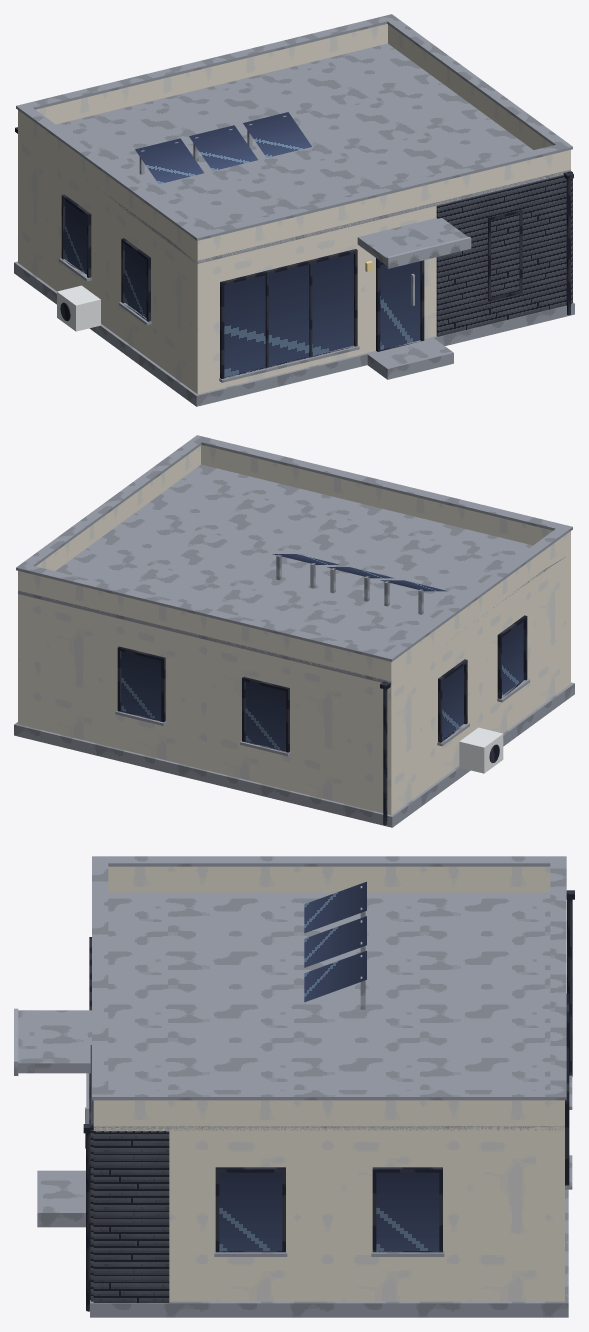
Rendered from modern_house_3.glb.
The picture shows the model from 3 angles, top to bottom: view 1: azimuth 30°, elevation 25°; view 2: azimuth 150°, elevation 25°; view 3: azimuth 270°, elevation 25°; orthographic projection. The views are drawn at different scales.
Parts seen in each view (by area): view 1: modern_house_4; view 2: modern_house_4; view 3: modern_house_4.
Boxes of the visible parts, x1=… form: modern_house_4: x1=14, y1=14, x2=574, y2=406; modern_house_4: x1=14, y1=435, x2=574, y2=827; modern_house_4: x1=14, y1=856, x2=574, y2=1317.
Size of the model in its own units: 9.8 by 3.9 by 8.93.
9 materials, 9 textured.
